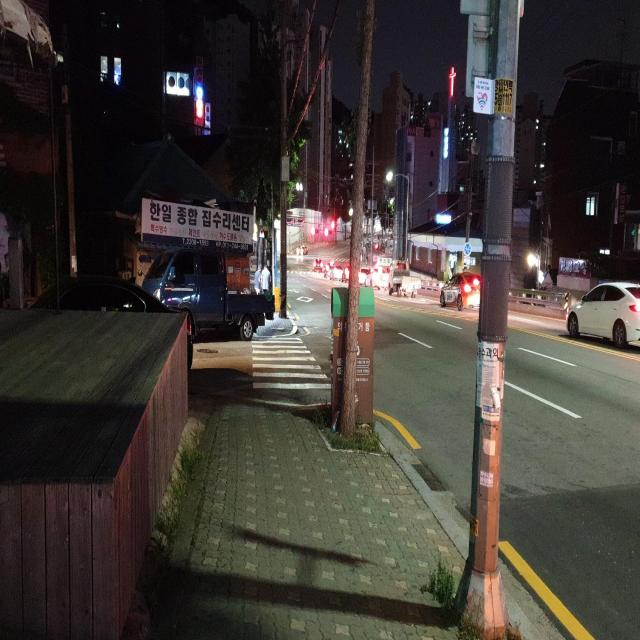횡단보도: (251, 336, 332, 390)
